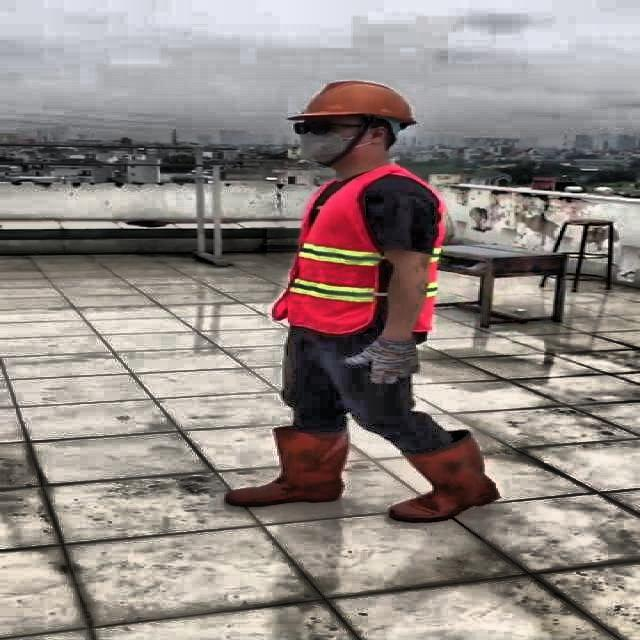safety_helmet: (282, 79, 424, 124)
safety_jacket: (272, 171, 443, 335)
